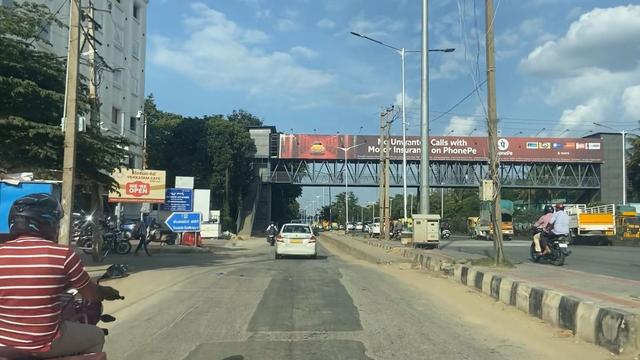LMV: (268, 219, 315, 256)
RoadDamages: (144, 307, 203, 336)
UnsurfacedRoad: (228, 305, 379, 353)
